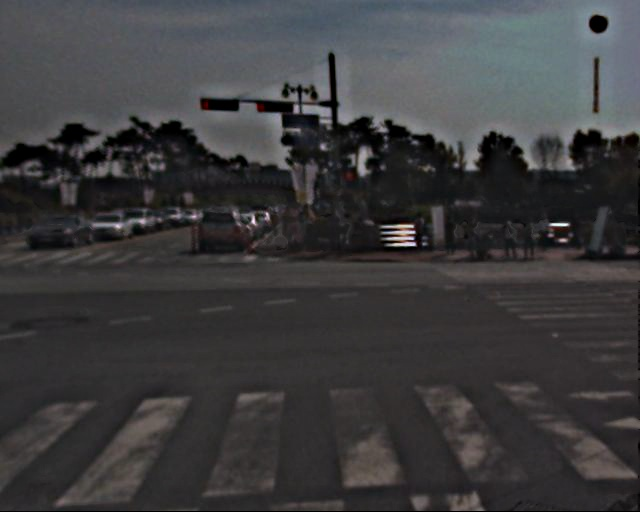person: (273, 204, 315, 247), (466, 214, 487, 265), (329, 206, 350, 257), (443, 218, 463, 266), (523, 220, 542, 266), (538, 215, 556, 260), (503, 221, 521, 266), (569, 208, 587, 252), (413, 213, 429, 253)
